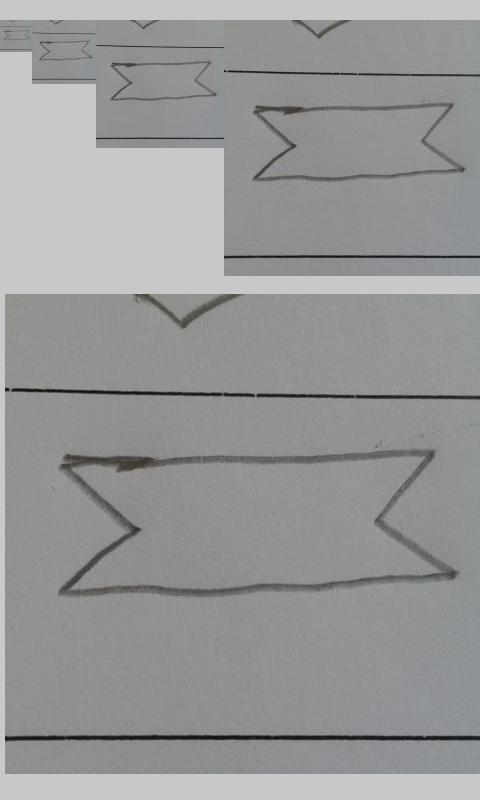edit_text: (59, 450, 457, 597), (252, 102, 463, 186), (110, 61, 216, 101), (39, 40, 92, 61), (3, 30, 30, 41)
